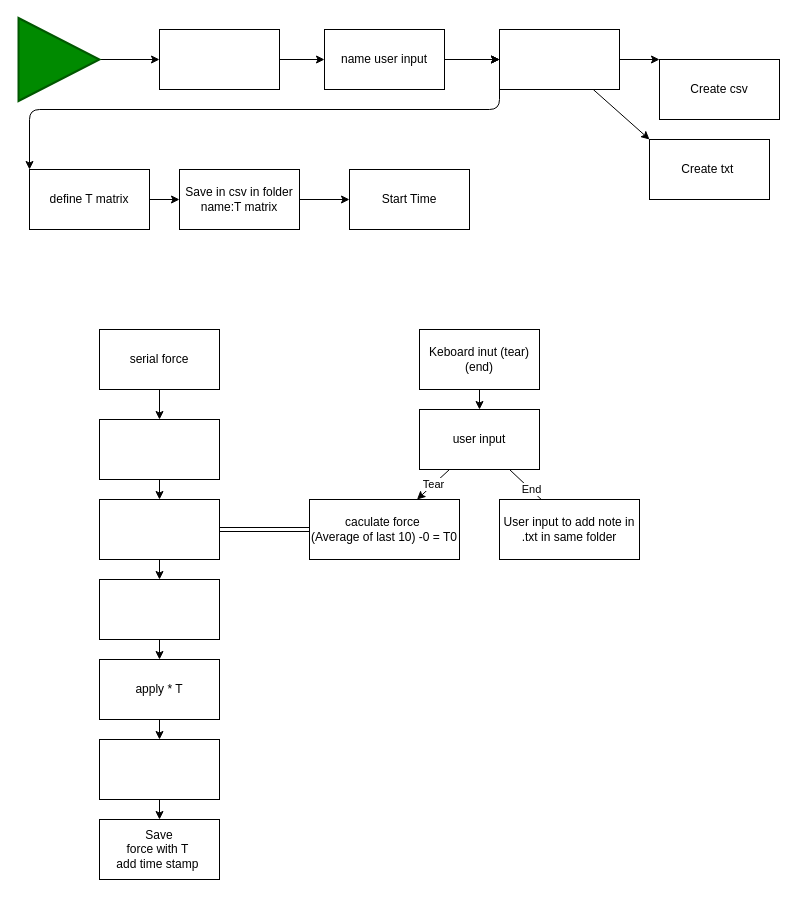
Some shapes in this 797 by 897 pixel diagram are drawn without their labels. The box of each missing label's shape, as (x1, y1, x2, y2) in pixels:
Chose location: (158, 28, 280, 90)
convert to array: (98, 578, 220, 640)
Create folder: (498, 28, 620, 90)
decode: (98, 418, 220, 480)
force + T0: (98, 498, 220, 560)
plot force with T: (98, 738, 220, 800)
